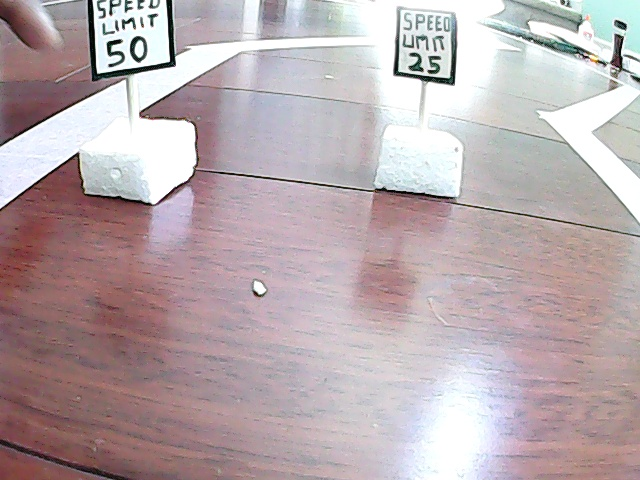speed_25: (378, 5, 466, 199)
speed_50: (70, 1, 209, 199)
